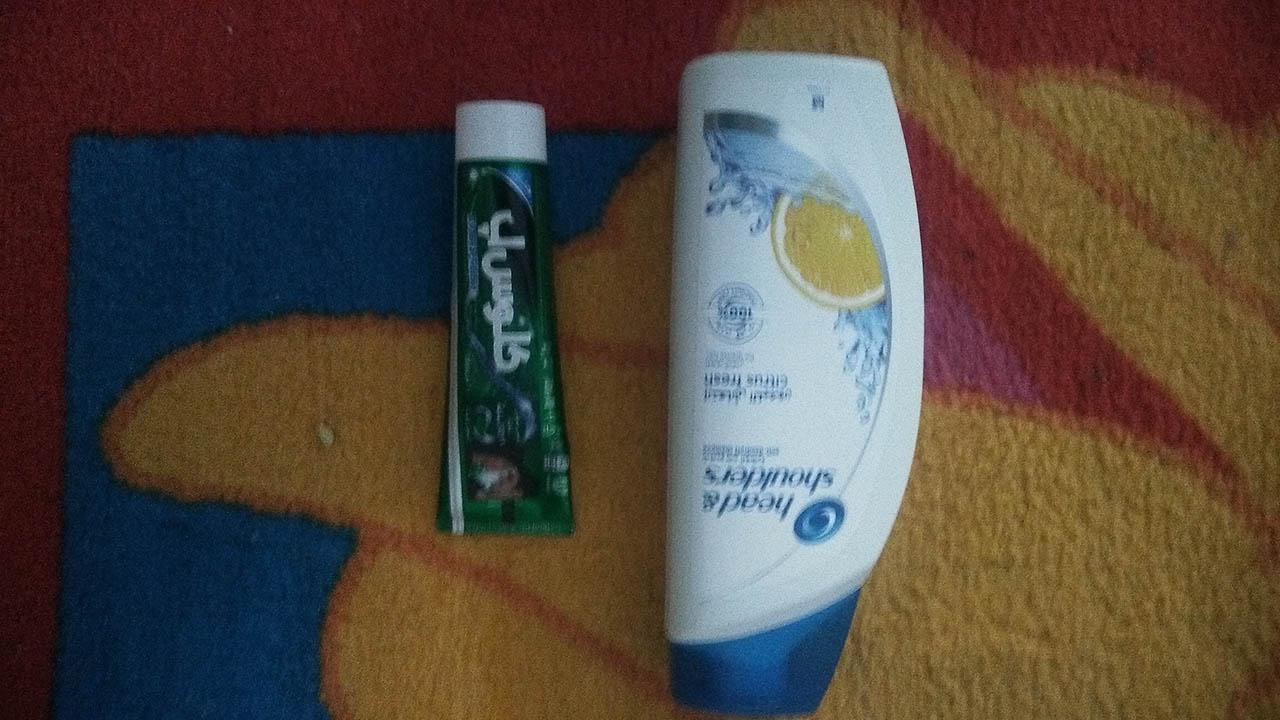Toothpaste-Closeup 3.04$: (435, 79, 589, 555)
shampoo-Lemon 3.5$: (653, 21, 944, 720)
